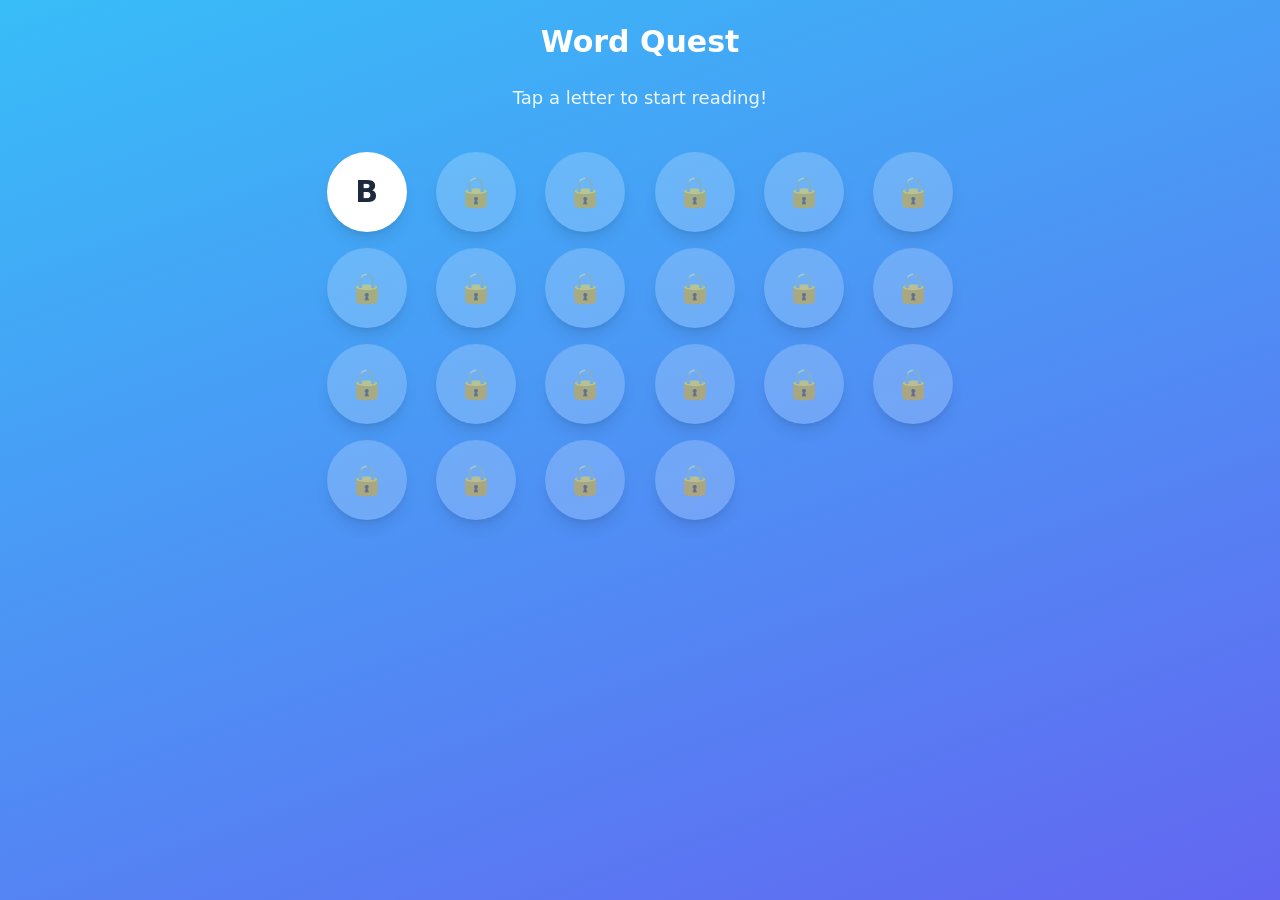
Scenario: HomeScreen › opens the stage picker for the unlocked letter and gates stage 2 as always available
The width and height of the screenshot is (1280, 900).
Click the button "B": {"x": 367, "y": 192} top-left (327, 152), bottom-right (407, 232)
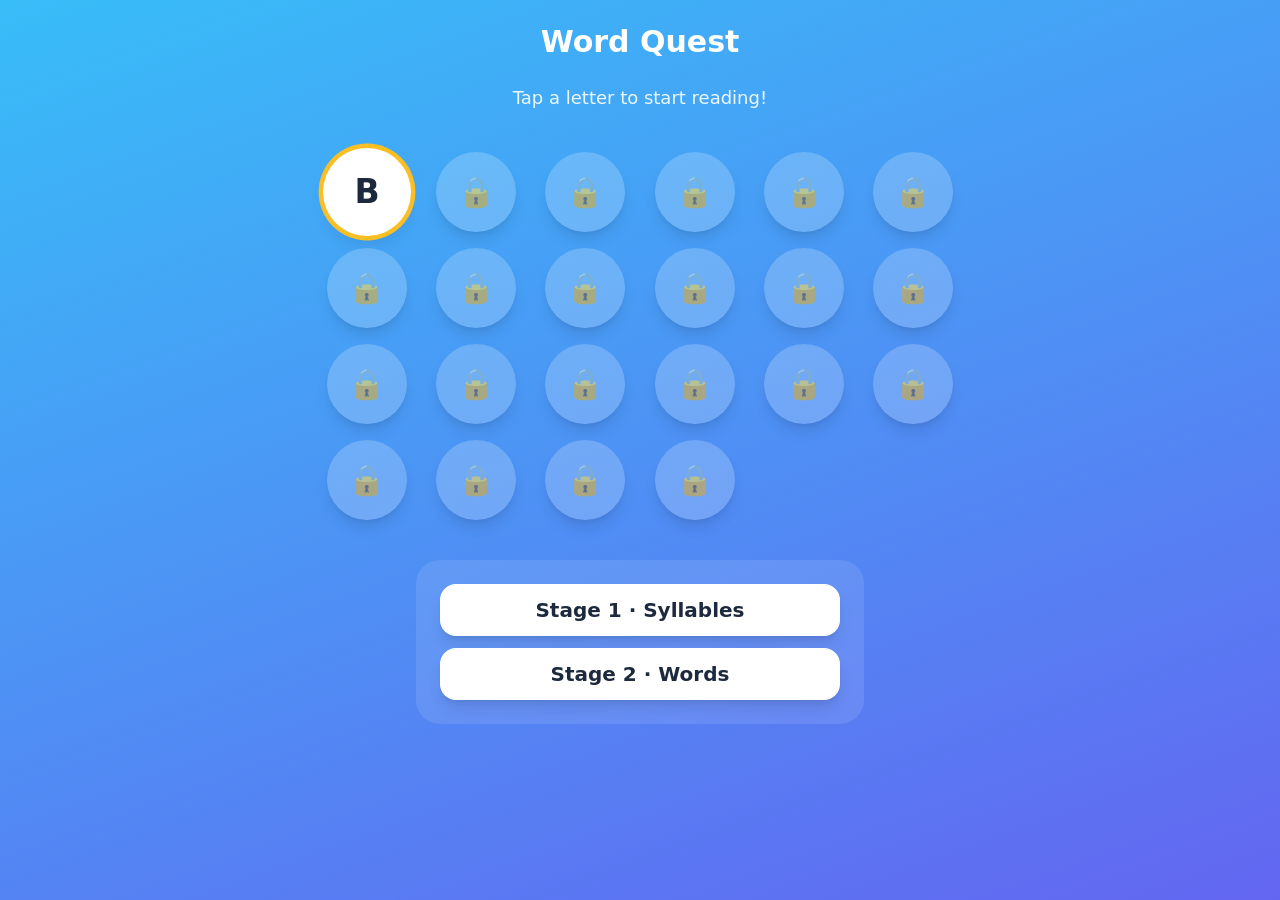
Result: the button "Stage 1 · Syllables" is shown at top-left (440, 584), bottom-right (840, 636)
Result: the button "Stage 2 · Words" is shown at top-left (440, 648), bottom-right (840, 700)
